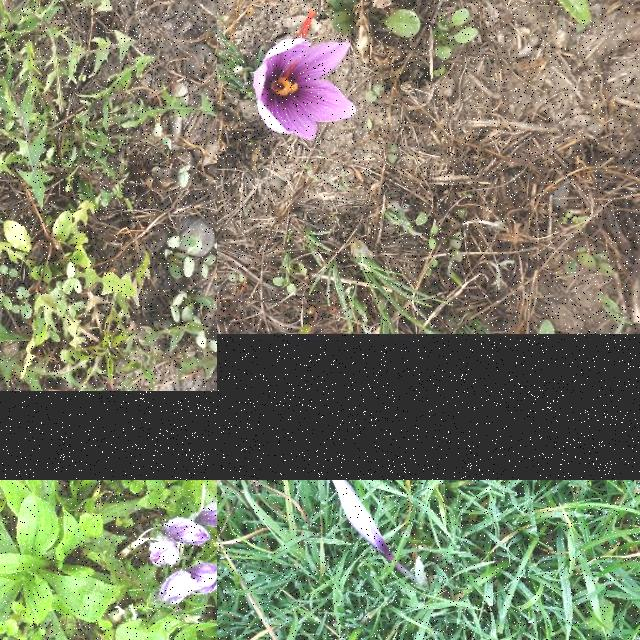flower: (253, 10, 357, 140), (328, 480, 392, 560), (162, 518, 210, 546), (149, 536, 181, 568), (200, 497, 217, 524)
overlap: (159, 556, 217, 603)
